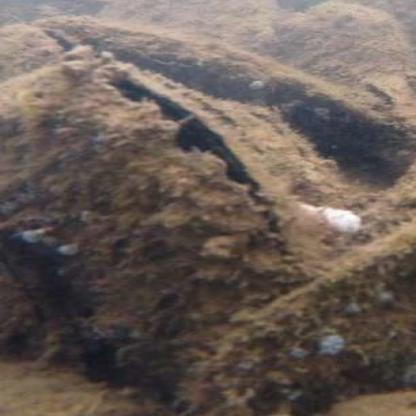3: (0, 60, 354, 399), (0, 23, 100, 81)
Oyster-Closed: (39, 15, 416, 170), (161, 218, 416, 416)
Oyster-Open: (99, 0, 290, 63), (284, 4, 410, 88)
